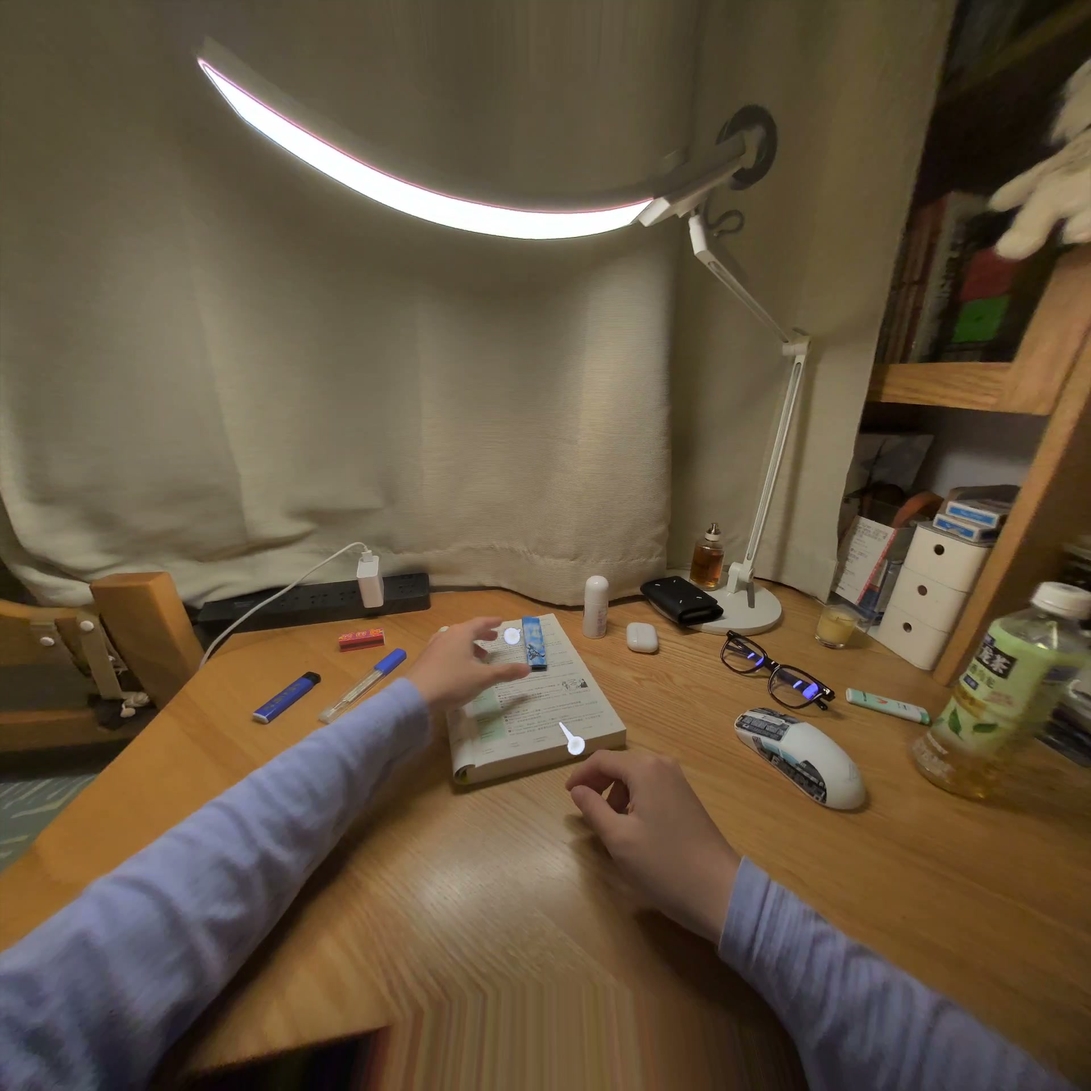lighter: (522, 617, 547, 671)
